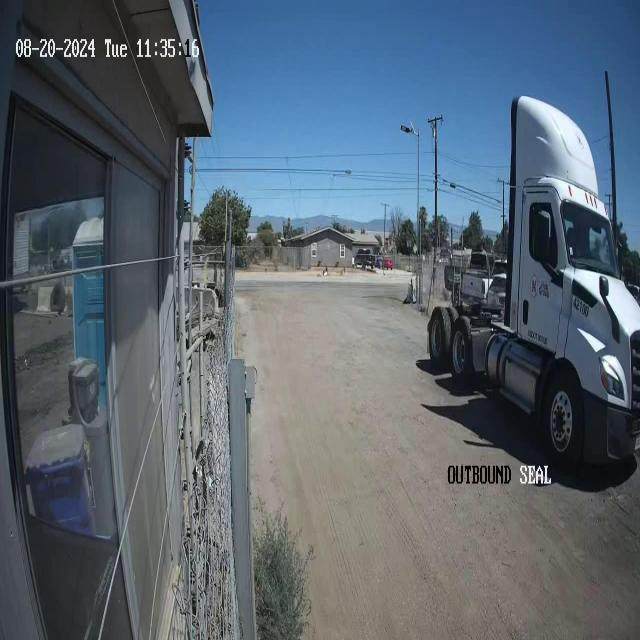BOBTAIL: (426, 93, 640, 472)
